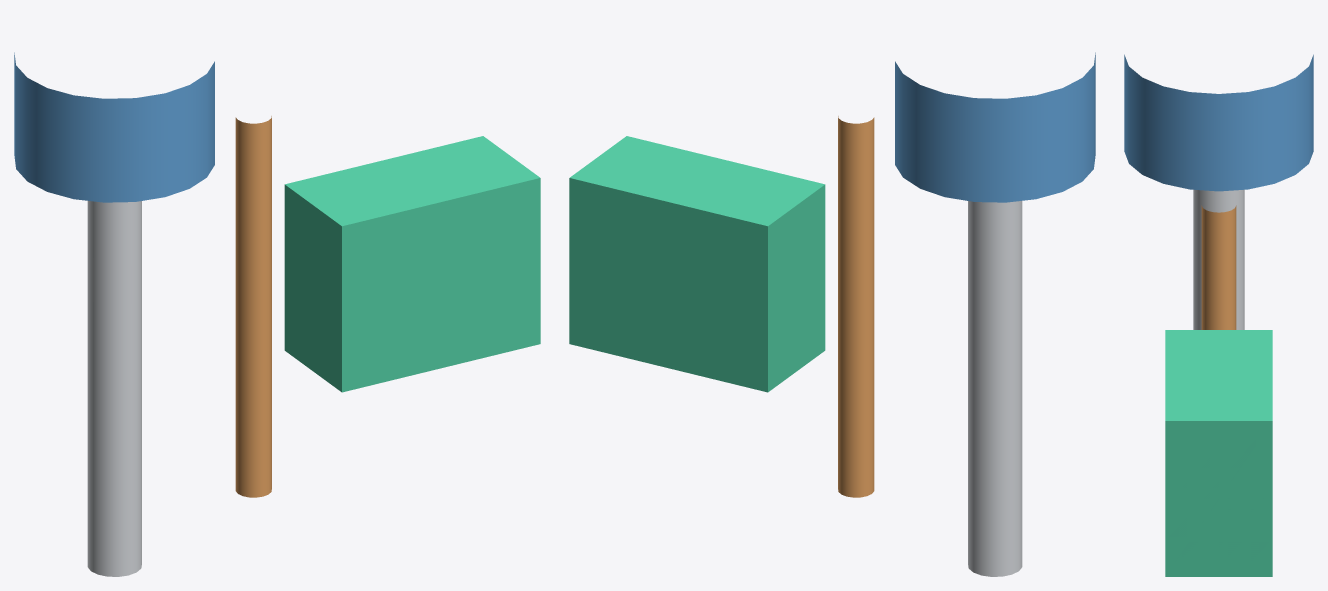
Rendered from rtd_thermocouple_pyrometer.glb.
3 renders of one model, left to right at view 1: azimuth 30°, elevation 25°; view 2: azimuth 150°, elevation 25°; view 3: azimuth 270°, elevation 25°, orthographic. The views are drawn at different scales.
Parts seen in each view (by area): view 1: DigitalTemperatureCalibratorUnit, ThreeWireTransmitterHead, Pt100RTDCeramicSheathProbe, TypeKThermocoupleJunctionBead; view 2: DigitalTemperatureCalibratorUnit, ThreeWireTransmitterHead, Pt100RTDCeramicSheathProbe, TypeKThermocoupleJunctionBead; view 3: DigitalTemperatureCalibratorUnit, ThreeWireTransmitterHead, TypeKThermocoupleJunctionBead, Pt100RTDCeramicSheathProbe.
Boxes of the visible parts, <box> form: DigitalTemperatureCalibratorUnit: <box>284,136,540,392</box>; ThreeWireTransmitterHead: <box>14,52,214,202</box>; Pt100RTDCeramicSheathProbe: <box>87,201,141,576</box>; TypeKThermocoupleJunctionBead: <box>235,116,271,497</box>; DigitalTemperatureCalibratorUnit: <box>569,136,825,392</box>; ThreeWireTransmitterHead: <box>895,52,1095,202</box>; Pt100RTDCeramicSheathProbe: <box>968,201,1022,576</box>; TypeKThermocoupleJunctionBead: <box>838,116,874,497</box>; DigitalTemperatureCalibratorUnit: <box>1165,330,1272,576</box>; ThreeWireTransmitterHead: <box>1124,54,1313,191</box>; TypeKThermocoupleJunctionBead: <box>1201,205,1236,329</box>; Pt100RTDCeramicSheathProbe: <box>1193,189,1244,329</box>.
Size of the model in its own units: 1.22 by 1.23 by 0.44.
